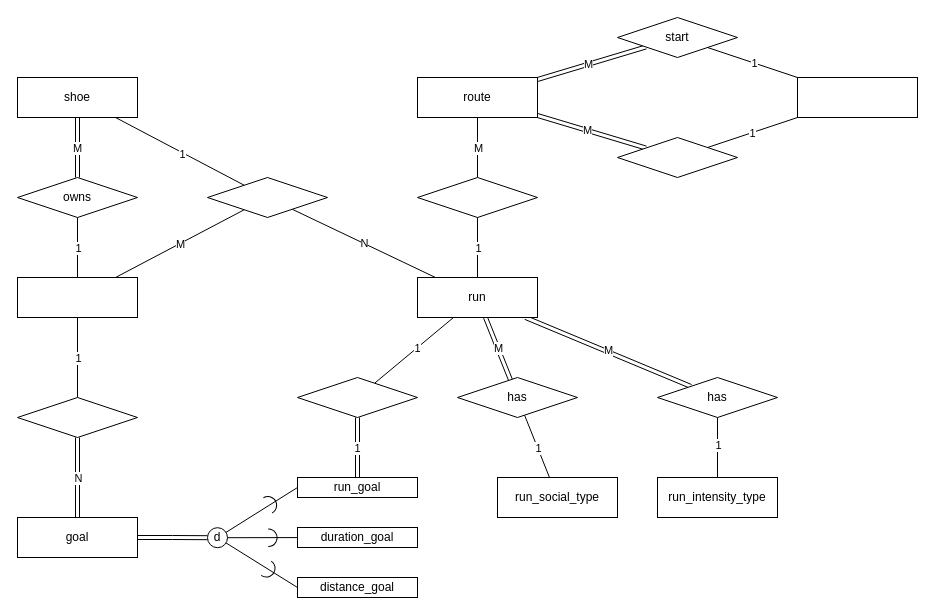
This 935x615 diagram has some shape labels left out. Here are the shapes that lost their labels. From the top down, the box of each, then its label:
(796, 76, 918, 118): location
(616, 136, 738, 178): end
(206, 176, 328, 218): runs
(416, 176, 538, 218): on
(16, 276, 138, 318): person
(16, 396, 138, 438): sets
(296, 376, 418, 418): is
